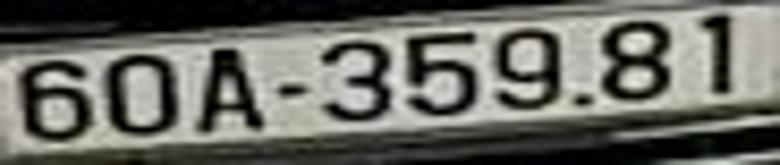-: (271, 79, 309, 105)
.: (566, 89, 595, 109)
0: (104, 49, 172, 137)
1: (699, 12, 740, 98)
3: (315, 36, 390, 125)
5: (403, 32, 477, 117)
6: (16, 56, 88, 142)
8: (600, 21, 670, 105)
9: (492, 27, 560, 110)
A: (195, 44, 264, 134)
